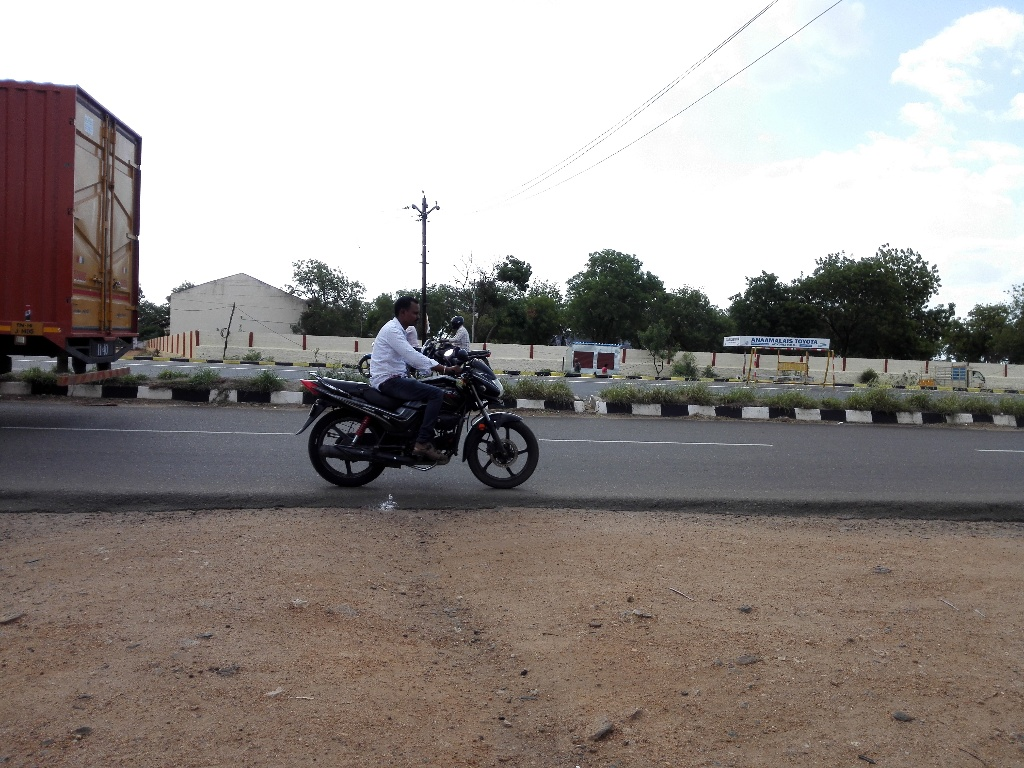biker: (270, 267, 553, 503), (425, 303, 495, 372)
helmet: (447, 311, 467, 332)
nohelmet: (387, 290, 423, 333)
